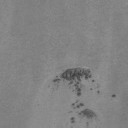iron sheet ash: (54, 66, 92, 98), (78, 109, 98, 119), (71, 103, 85, 109), (70, 116, 75, 124), (112, 94, 116, 98)
